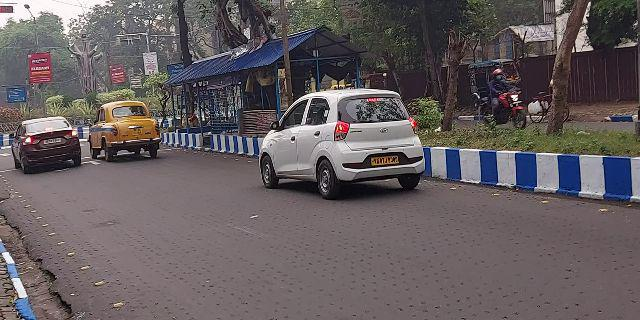Car: (258, 90, 426, 198), (89, 101, 167, 160), (14, 116, 84, 169)
